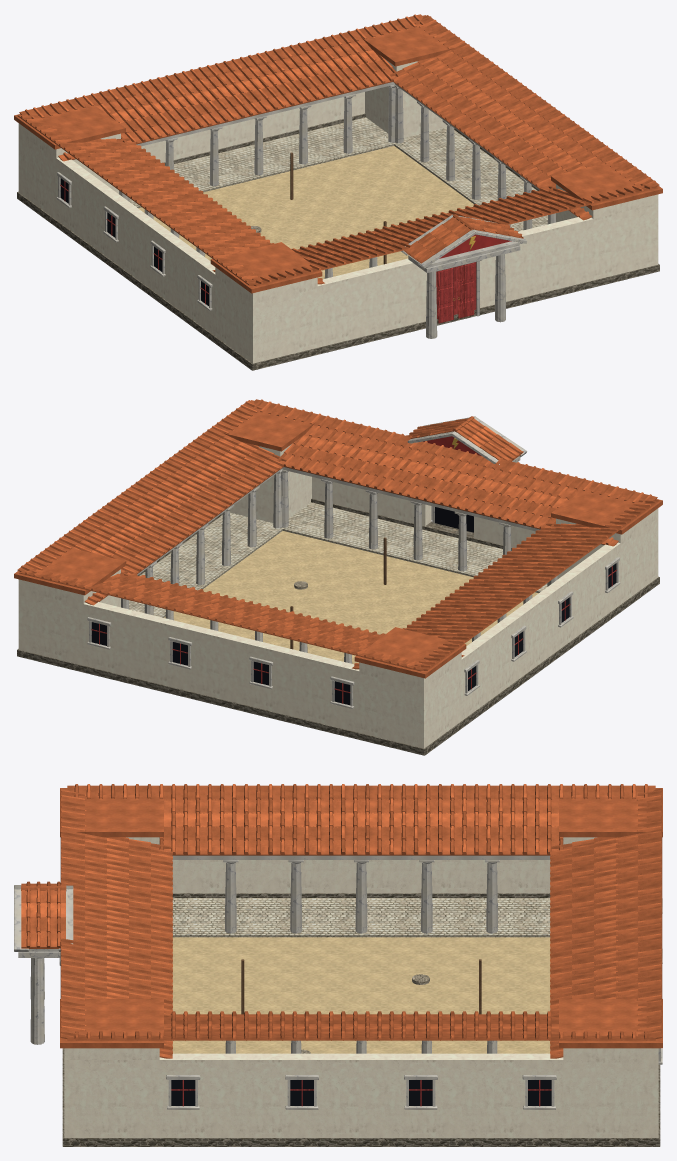
File: civic_gymnasium.glb
3 renders of one model, top to bottom at view 1: azimuth 30°, elevation 25°; view 2: azimuth 150°, elevation 25°; view 3: azimuth 270°, elevation 25°, orthographic. The views are drawn at different scales.
Parts seen in each view (by area): view 1: cream, terracotta0, terracotta1, terracotta2, sand, marble, paving, stone_dark, red_wood, dark, paint_red; view 2: cream, terracotta0, terracotta1, terracotta2, sand, marble, paving, stone_dark, dark; view 3: cream, terracotta0, terracotta1, sand, terracotta2, paving, marble, stone_dark, dark.
Part boxes in pixels (x1,y1,x2,y2): cream: (18,59,658,363); terracotta0: (14,14,662,293); terracotta1: (17,14,659,286); terracotta2: (25,16,651,281); sand: (138,146,473,279); marble: (56,82,555,338); paving: (129,117,547,231); stone_dark: (17,113,659,370); red_wood: (60,181,476,323); dark: (60,178,208,305); paint_red: (439,234,511,258); cream: (18,444,658,748); terracotta0: (14,400,662,678); terracotta1: (17,399,659,671); terracotta2: (25,401,651,666); sand: (164,531,538,664); marble: (87,416,620,708); paving: (129,502,547,617); stone_dark: (17,498,659,755); dark: (91,507,616,705); cream: (64,837,658,1137); terracotta0: (21,784,662,1058); terracotta1: (21,784,662,1050); sand: (172,937,550,1053); terracotta2: (21,784,661,1055); paving: (172,898,550,937); marble: (14,855,662,1109); stone_dark: (62,893,660,1146); dark: (171,1080,551,1105).
Bounding box in the file's own units: 20.3 × 4.99 × 21.85.
15 materials, 13 textured.
